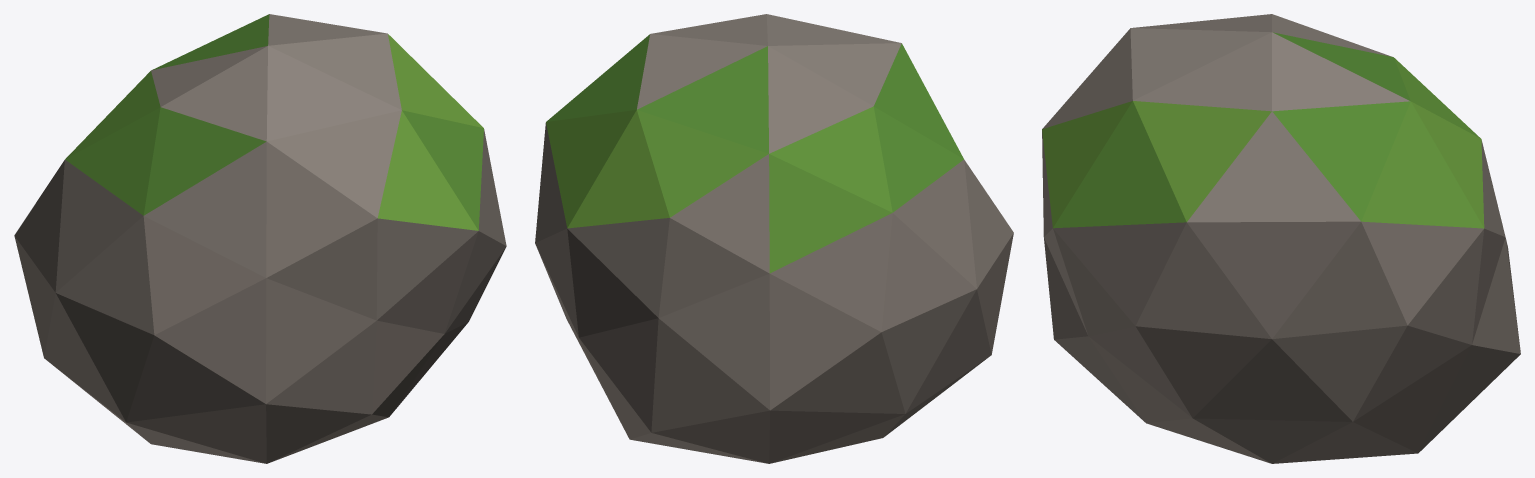
Rendered from hazard-rock.glb.
3 views of the same model, side by side, from view 1: azimuth 30°, elevation 25°; view 2: azimuth 150°, elevation 25°; view 3: azimuth 270°, elevation 25° (orthographic). The views are drawn at different scales.
Visible parts, largest first — view 1: hazard-rock; view 2: hazard-rock; view 3: hazard-rock.
Part boxes in pixels (<box>): hazard-rock: <box>14,14,506,463</box>; hazard-rock: <box>535,14,1013,463</box>; hazard-rock: <box>1042,14,1520,463</box>.
Size of the model in its own units: 2.15 by 1.94 by 2.06.
